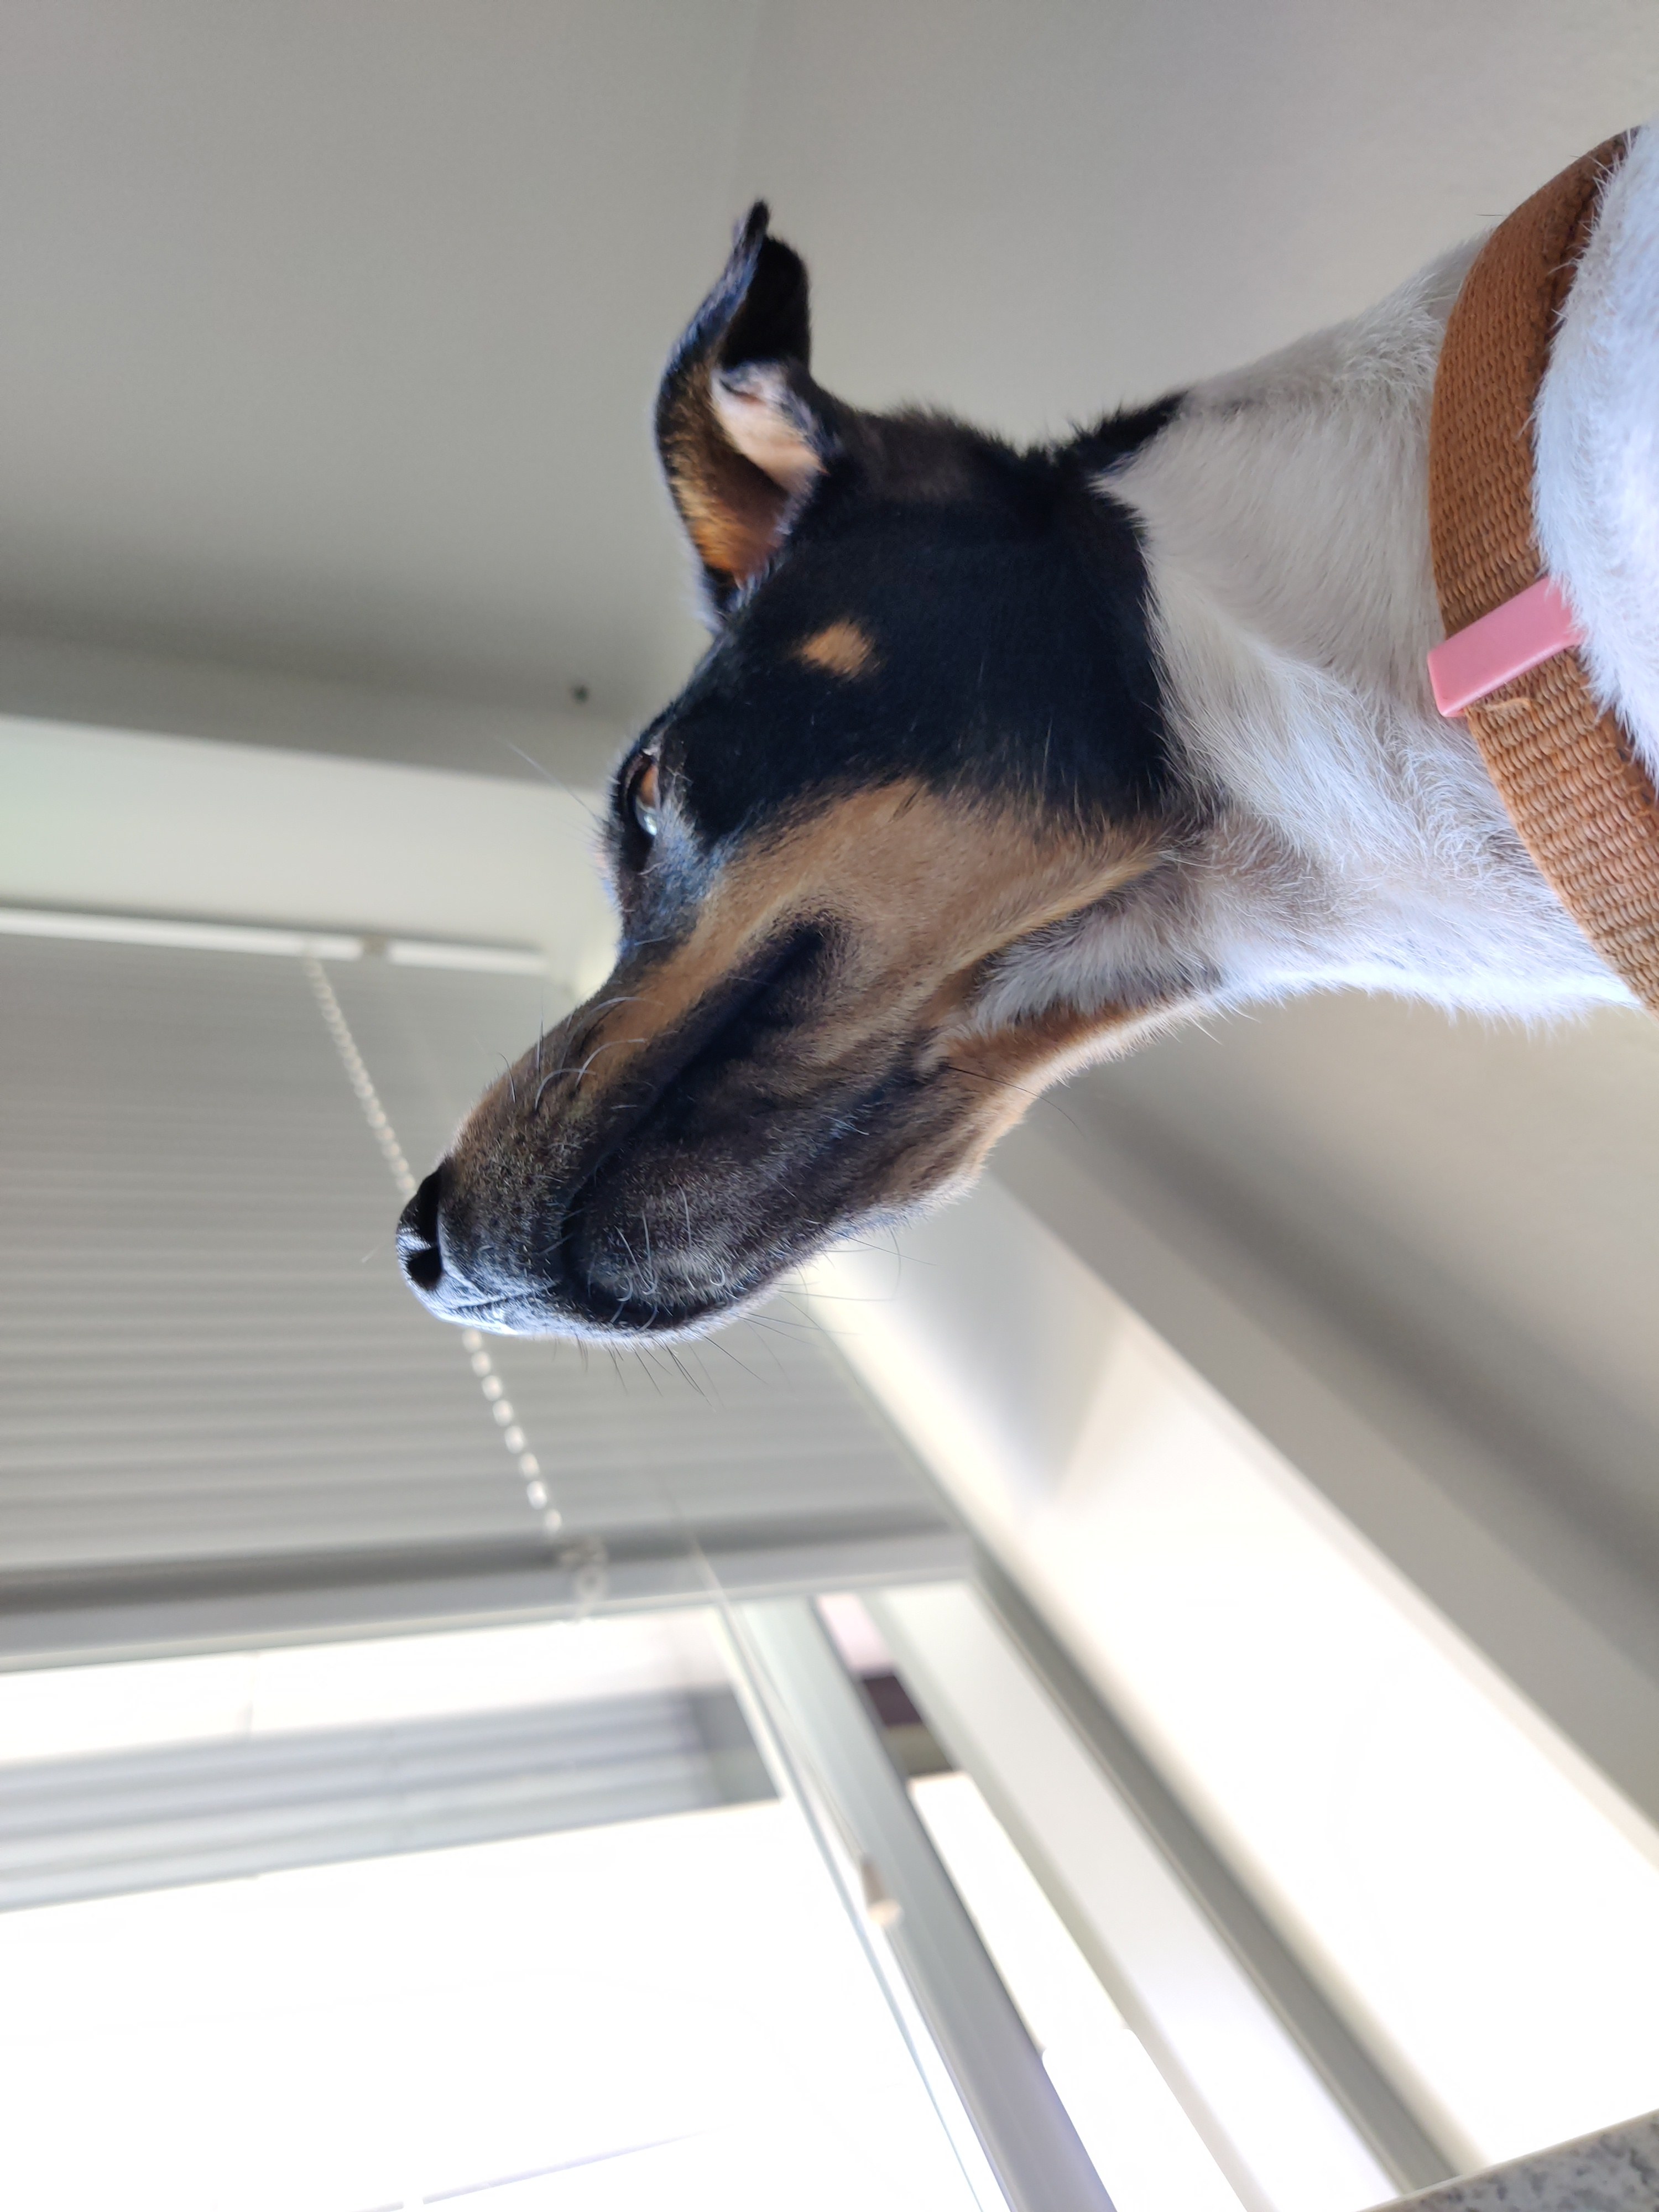Dog: (335, 91, 1659, 1378)
